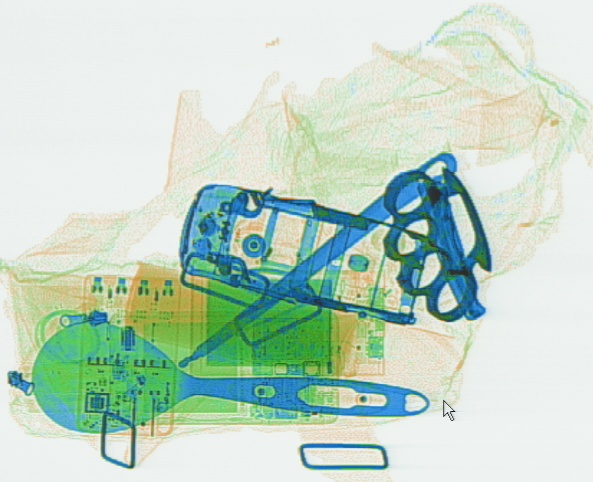knife: (417, 176, 486, 320)
